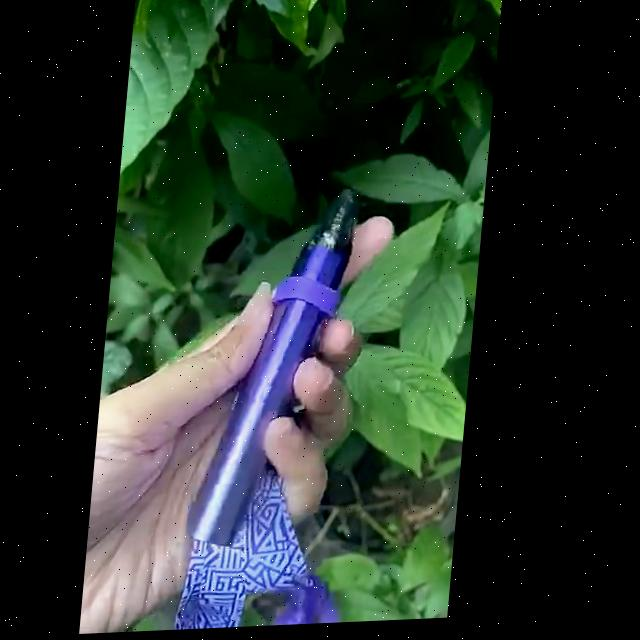vape: (195, 197, 363, 553)
